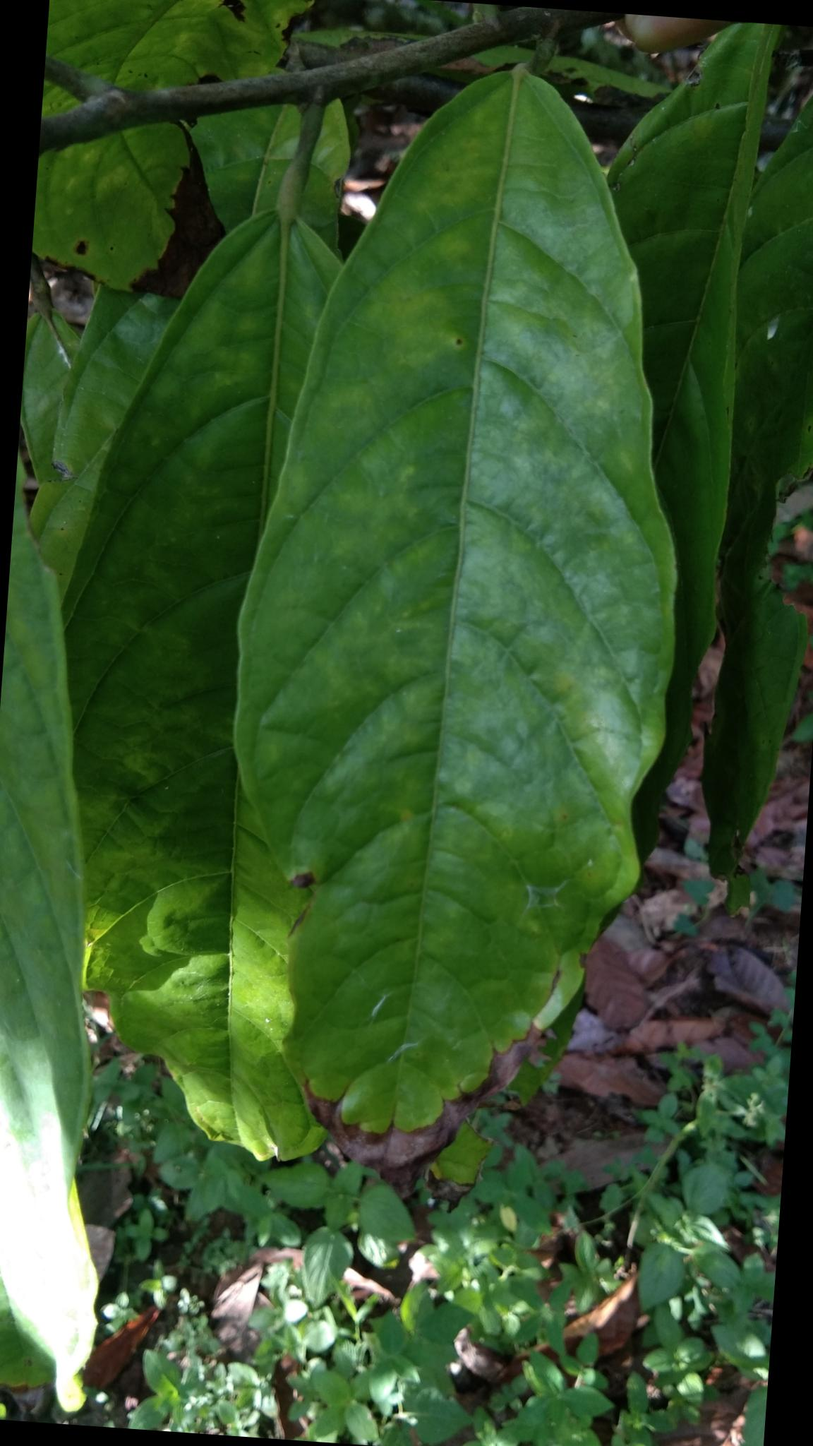Fosforo: (238, 62, 677, 1134)
